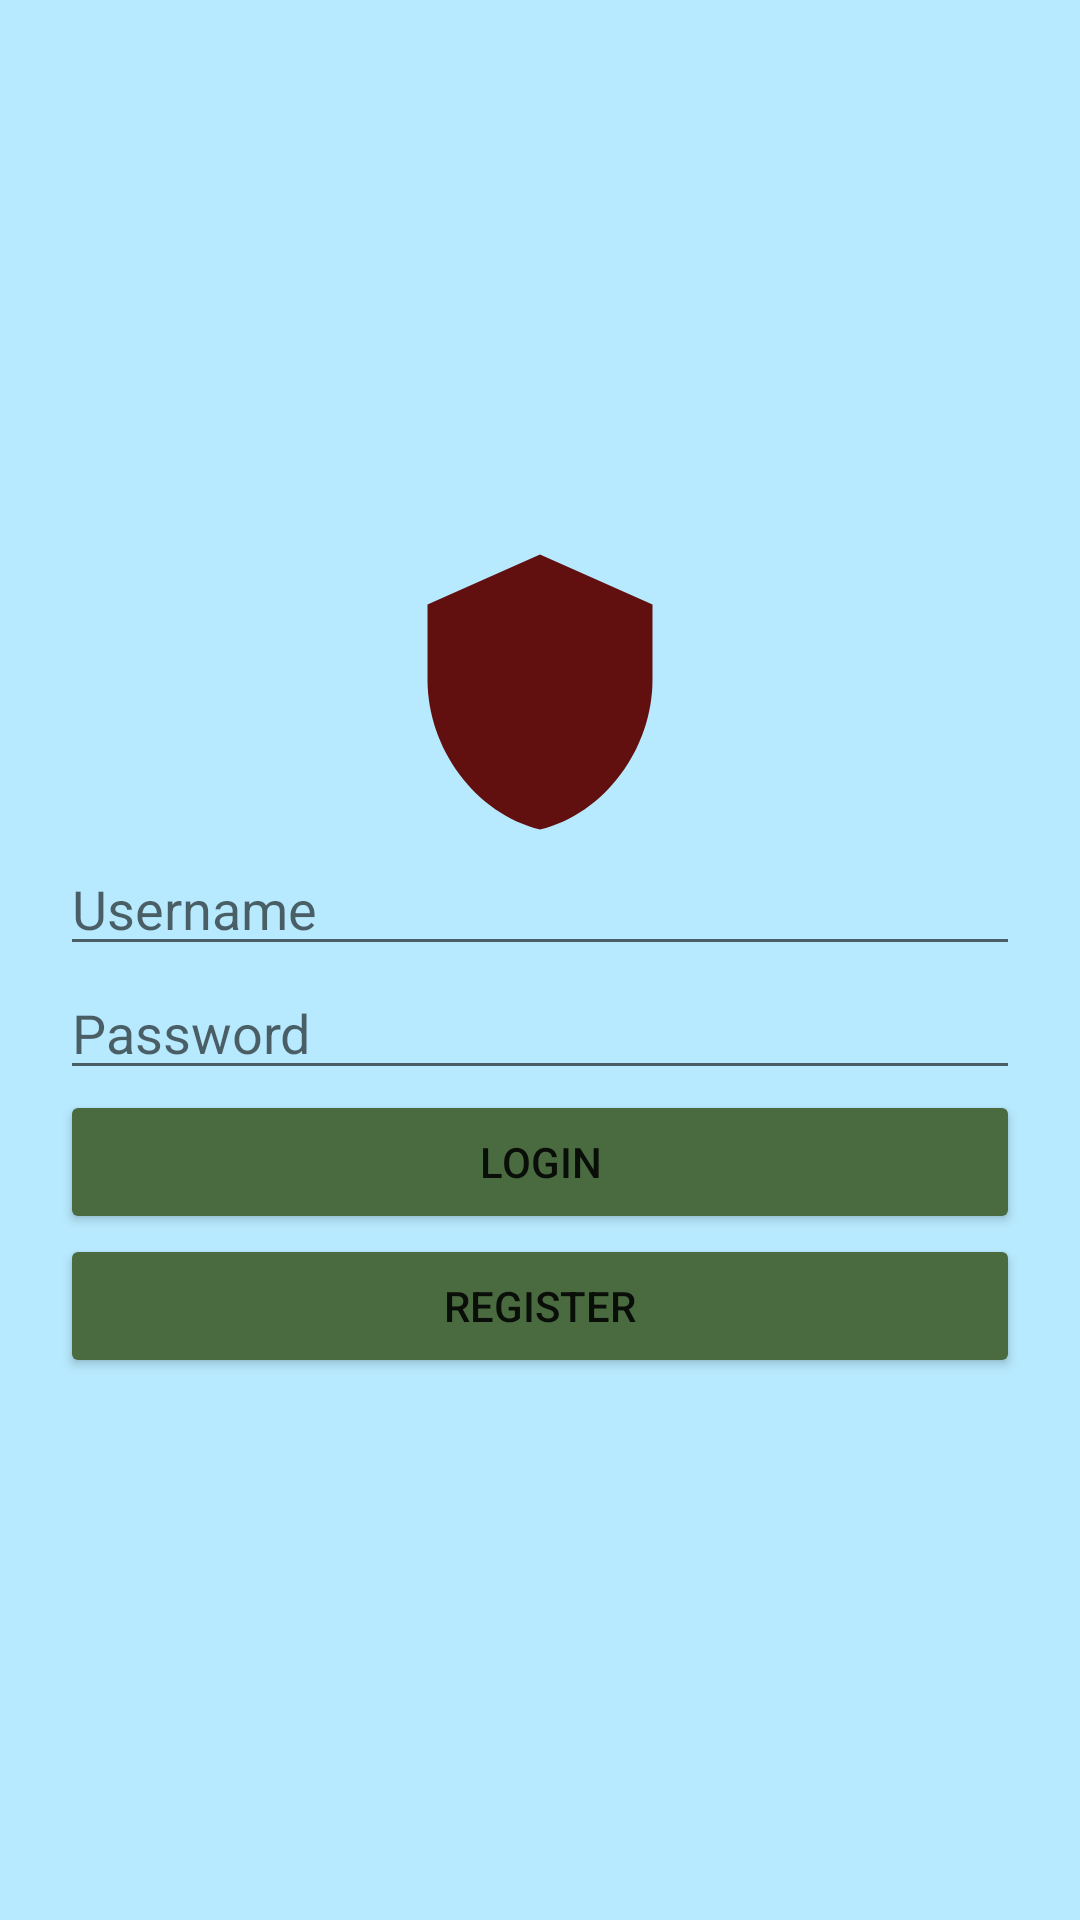

Point at icon controls on the screen. Image size 1080 x 1920, points as (x=x, y=y).
crime: (x=540, y=692)
